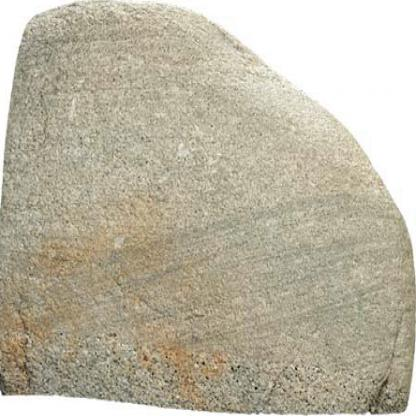Sedimentary_Sandstone: (1, 0, 413, 415)
